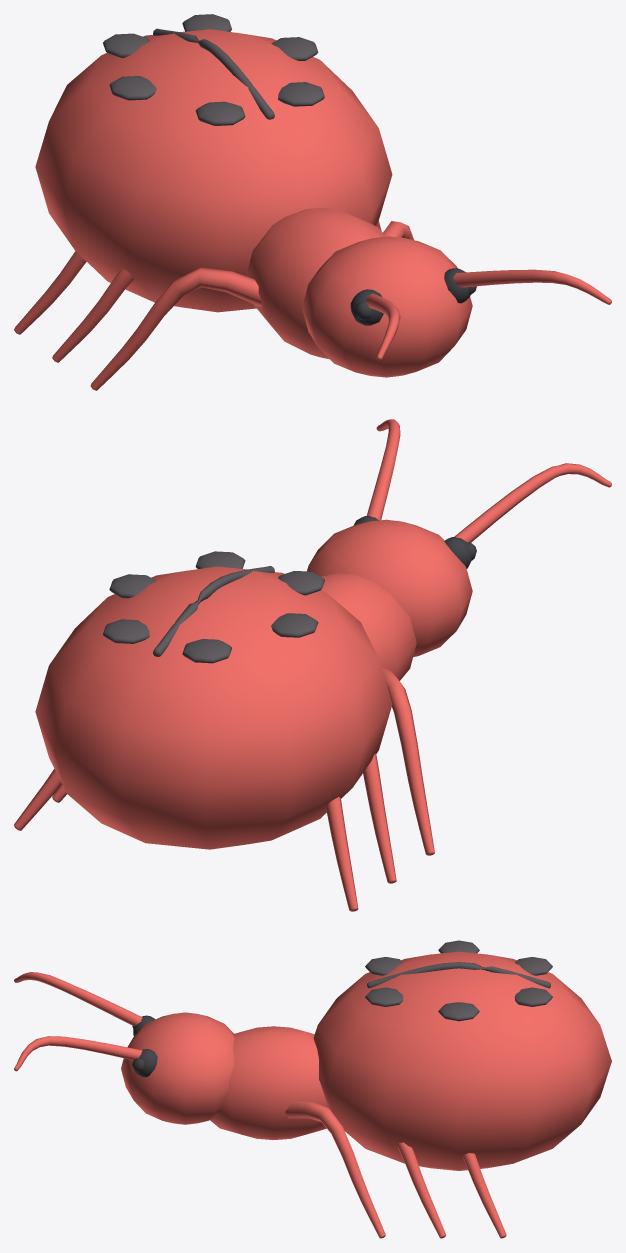
Rendered from reptiles-amphibians-and-minibeasts-ladybird-bd2eed9a__22454.glb.
The picture shows the model from 3 angles, top to bottom: view 1: azimuth 30°, elevation 25°; view 2: azimuth 150°, elevation 25°; view 3: azimuth 270°, elevation 25°; orthographic projection. The views are drawn at different scales.
Parts seen in each view (by area): view 1: ladybird; view 2: ladybird; view 3: ladybird.
Boxes of the visible parts, <box> form: ladybird: <box>14,14,611,390</box>; ladybird: <box>14,419,611,911</box>; ladybird: <box>14,940,611,1238</box>.
Bounding box in the file's own units: 0.00418 × 0.00313 × 0.008.
